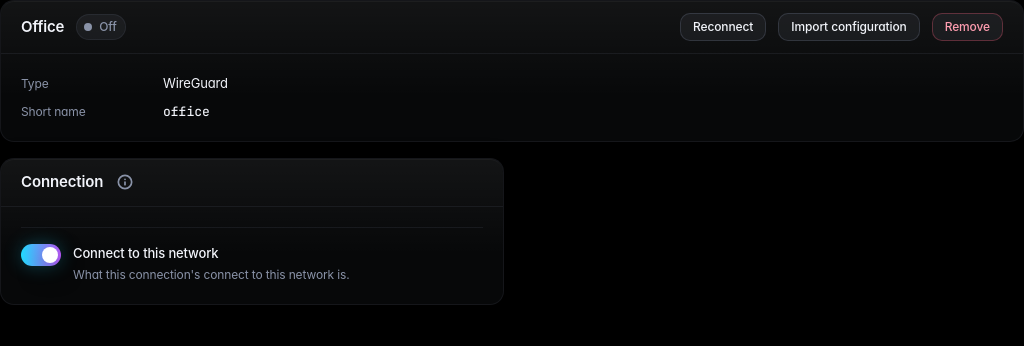
Test: one connection › puts the switch back with the reason when the agent refuses to move it
Click the checkbox named "Connect to this network" at (41, 254), box [21,244,61,266]
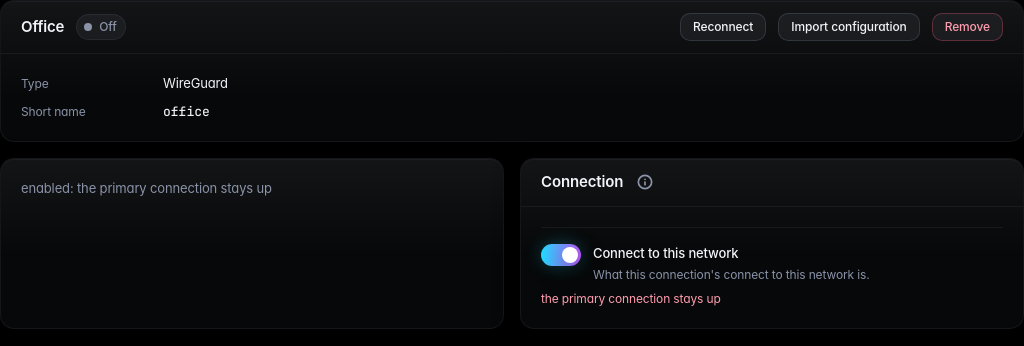
Expected: the checkbox named "Connect to this network" is checked, [541,244,581,266]
Now the text with class "field-error" reads "the primary connection stays up", box [541,291,721,306]
